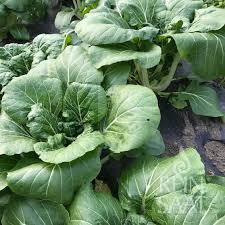Healthy-Pechay: (5, 3, 225, 225)
